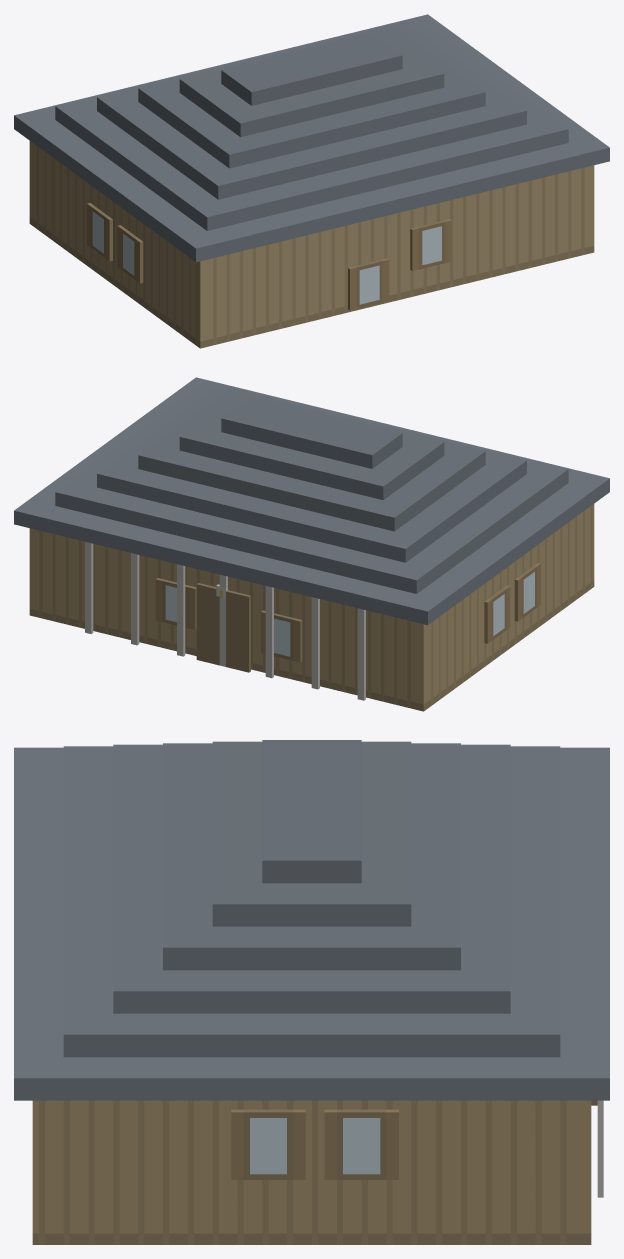
File: gran_archivo_01.glb
3 views of the same model, one above another, from view 1: azimuth 30°, elevation 25°; view 2: azimuth 150°, elevation 25°; view 3: azimuth 270°, elevation 25° (orthographic). The views are drawn at different scales.
Visible parts, largest first — view 1: gran_archivo_01; view 2: gran_archivo_01; view 3: gran_archivo_01.
Boxes of the visible parts, x1=… form: gran_archivo_01: x1=14, y1=14, x2=609, y2=348; gran_archivo_01: x1=14, y1=377, x2=609, y2=711; gran_archivo_01: x1=14, y1=740, x2=609, y2=1244.
Bounding box in the file's own units: 12.6 × 5.1 × 9.6.
